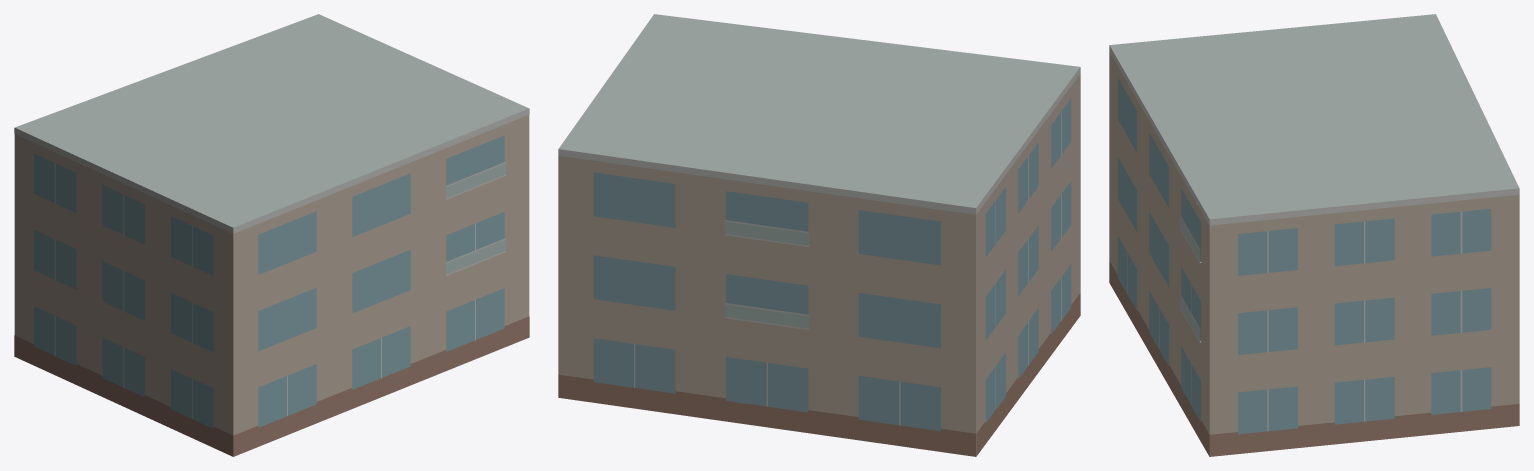
The model's file is survey-upis-32704962.glb.
The picture shows the model from 3 angles, left to right: view 1: azimuth 30°, elevation 25°; view 2: azimuth 150°, elevation 25°; view 3: azimuth 270°, elevation 25°; orthographic projection. The views are drawn at different scales.
Visible parts, largest first — view 1: survey-upis-32704962.tmp; view 2: survey-upis-32704962.tmp; view 3: survey-upis-32704962.tmp.
Part boxes in pixels (x1,y1,x2,y2): survey-upis-32704962.tmp: [14, 14, 529, 456]; survey-upis-32704962.tmp: [558, 14, 1080, 456]; survey-upis-32704962.tmp: [1109, 14, 1519, 456].
Bounding box in the file's own units: 16.97 × 9.15 × 14.33.
